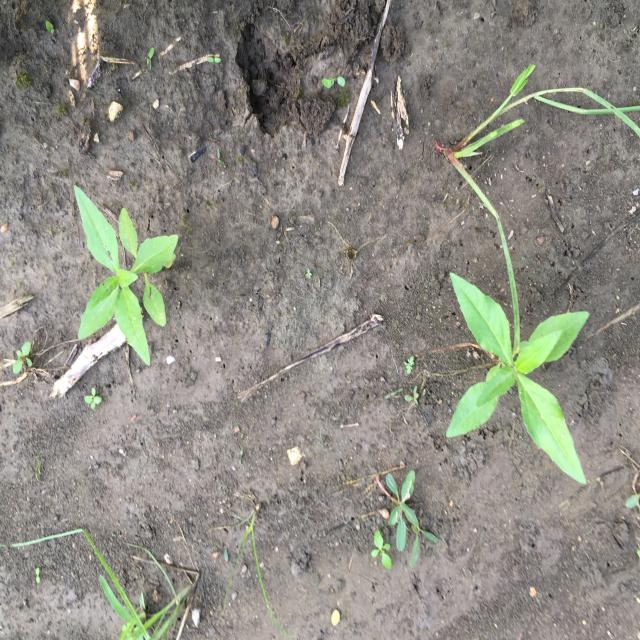Eclipta: (443, 270, 592, 487), (72, 182, 180, 370)
Waterhemp: (376, 472, 439, 572)
